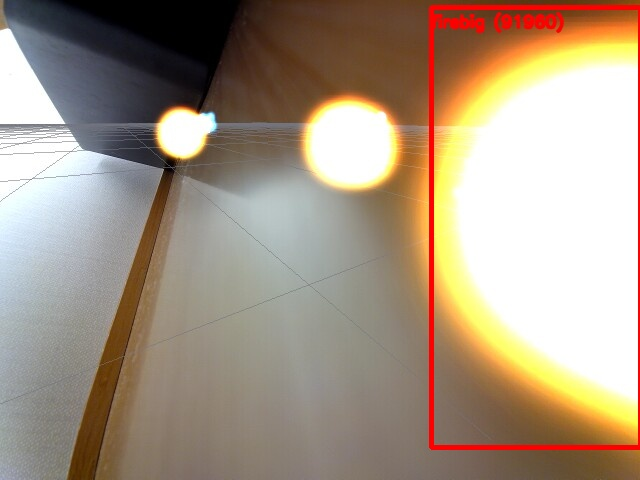firebig: (431, 7, 640, 447)
